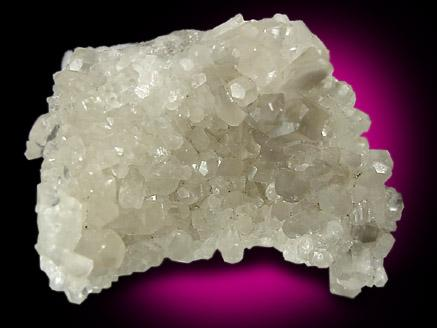calcite: (25, 14, 404, 304)
